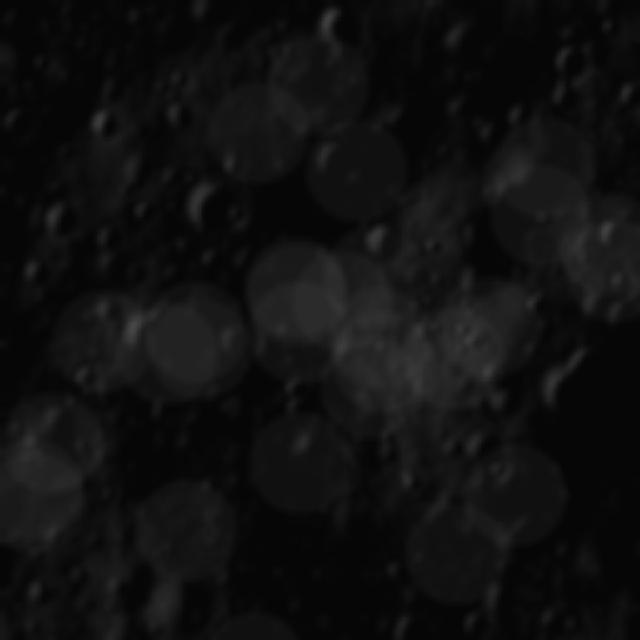crater: (309, 8, 382, 61), (183, 182, 246, 242), (120, 305, 175, 363), (503, 509, 554, 566), (312, 139, 361, 187), (384, 101, 428, 153), (218, 322, 262, 369), (253, 324, 295, 368), (36, 402, 75, 449), (488, 576, 527, 622), (458, 258, 498, 300), (575, 287, 613, 331), (547, 42, 588, 82), (593, 212, 632, 254), (292, 426, 336, 463), (373, 220, 404, 272), (41, 196, 78, 238), (464, 430, 504, 468), (72, 67, 108, 108), (0, 104, 42, 139), (602, 259, 636, 301), (475, 115, 508, 158), (120, 153, 158, 190), (160, 95, 197, 132), (14, 253, 52, 289), (384, 552, 419, 590), (442, 93, 476, 130), (608, 296, 637, 339), (226, 289, 260, 325), (460, 602, 497, 635), (285, 390, 320, 424), (449, 24, 480, 62), (86, 107, 119, 142), (90, 221, 124, 253), (509, 100, 540, 134), (69, 358, 96, 396), (525, 283, 552, 320), (69, 31, 100, 63), (128, 196, 158, 229), (229, 592, 260, 622), (278, 373, 311, 401), (122, 7, 155, 31), (29, 50, 57, 78), (190, 606, 216, 634), (227, 197, 250, 226), (170, 65, 192, 90), (22, 75, 42, 97)
